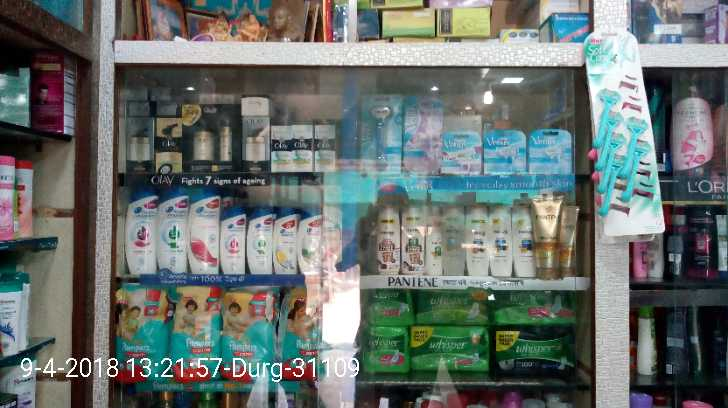venus: (591, 86, 660, 233), (362, 94, 400, 169), (400, 94, 437, 169), (530, 127, 574, 171), (440, 129, 486, 171), (486, 129, 530, 171)
